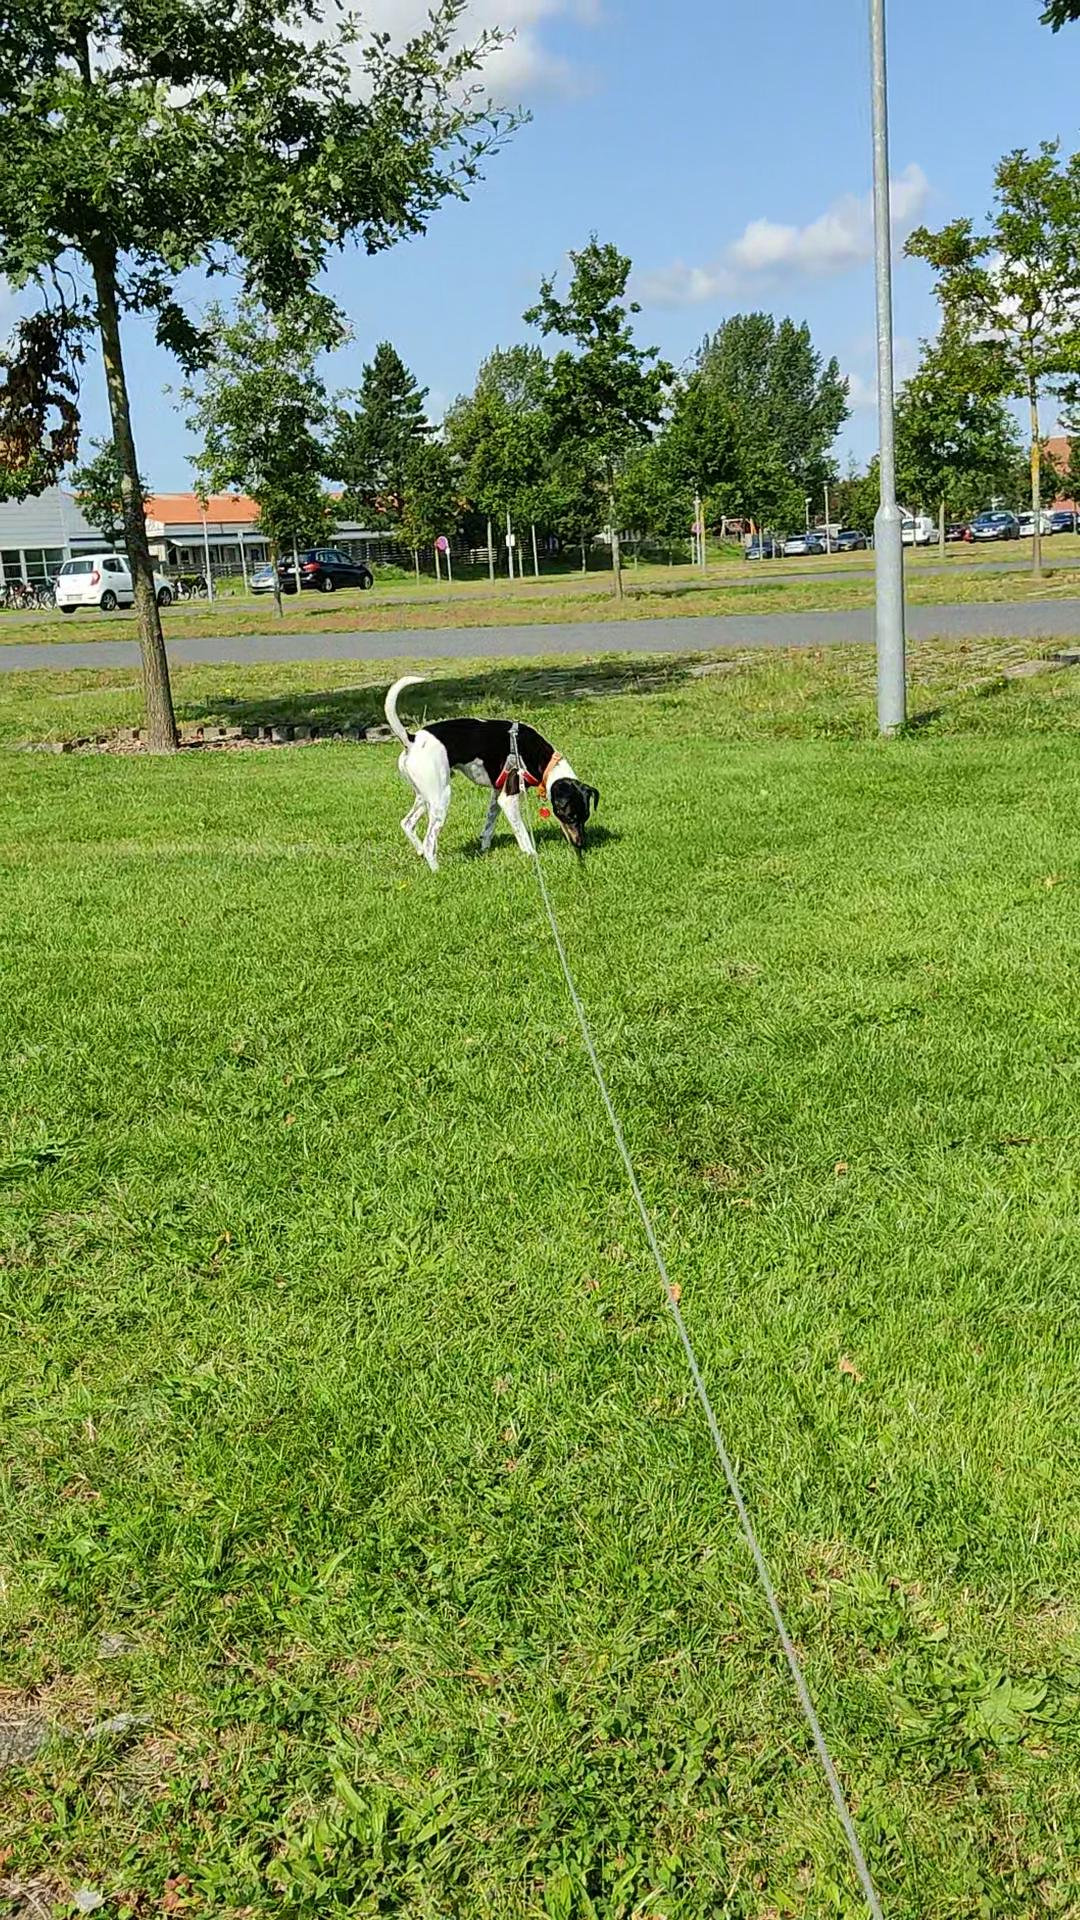Dog: (378, 671, 605, 872)
